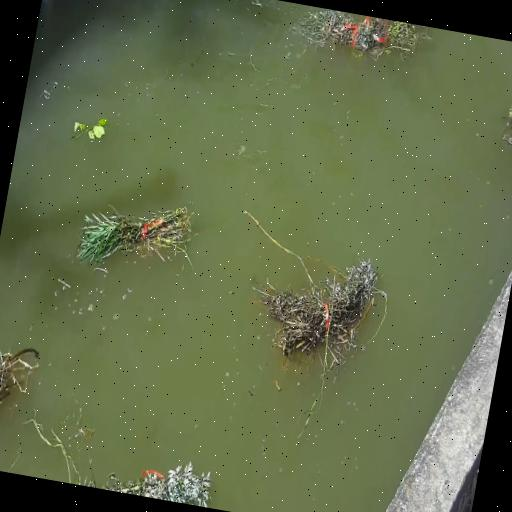twig: (255, 244, 384, 384), (66, 193, 206, 283), (286, 2, 438, 64), (101, 452, 213, 507), (0, 330, 36, 448), (64, 95, 116, 161), (497, 93, 512, 156)
